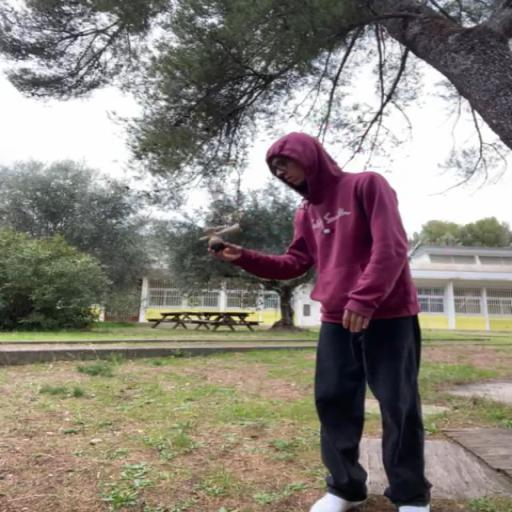kendama_ball: (209, 240, 226, 252)
